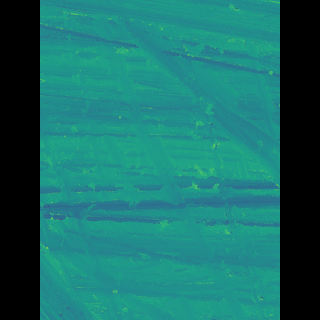Loch: (73, 134, 194, 286)
